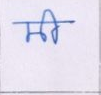i_matra: (44, 9, 61, 44)
